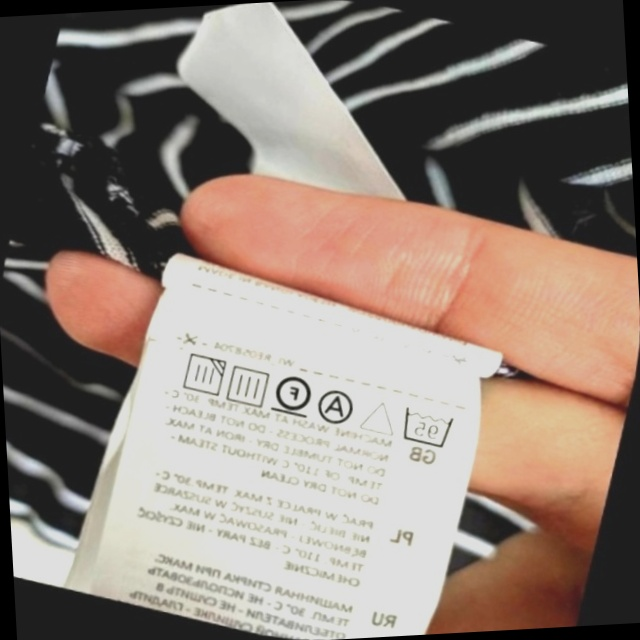95C: (391, 397, 461, 456)
bleach: (355, 389, 405, 443)
drip_dry: (219, 357, 277, 414)
drip_dry_in_shade: (172, 344, 232, 404)
dry_clean: (311, 382, 363, 432)
dry_clean_petrol_only: (265, 364, 320, 424)
